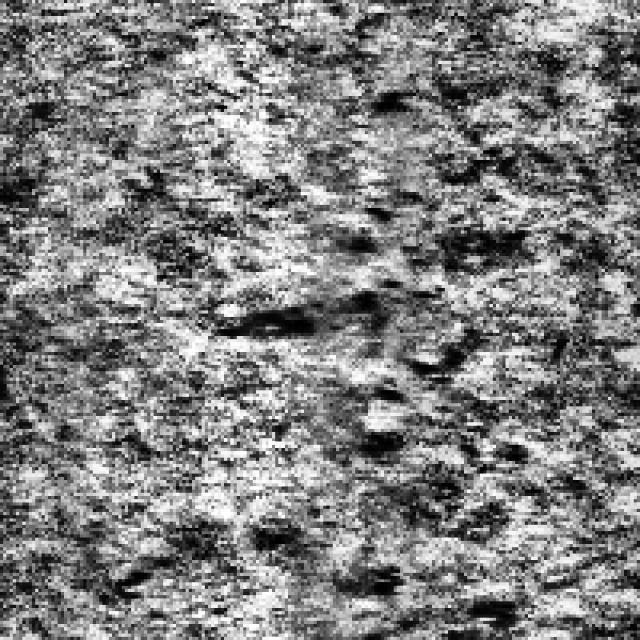Crazing: (314, 99, 518, 573)
